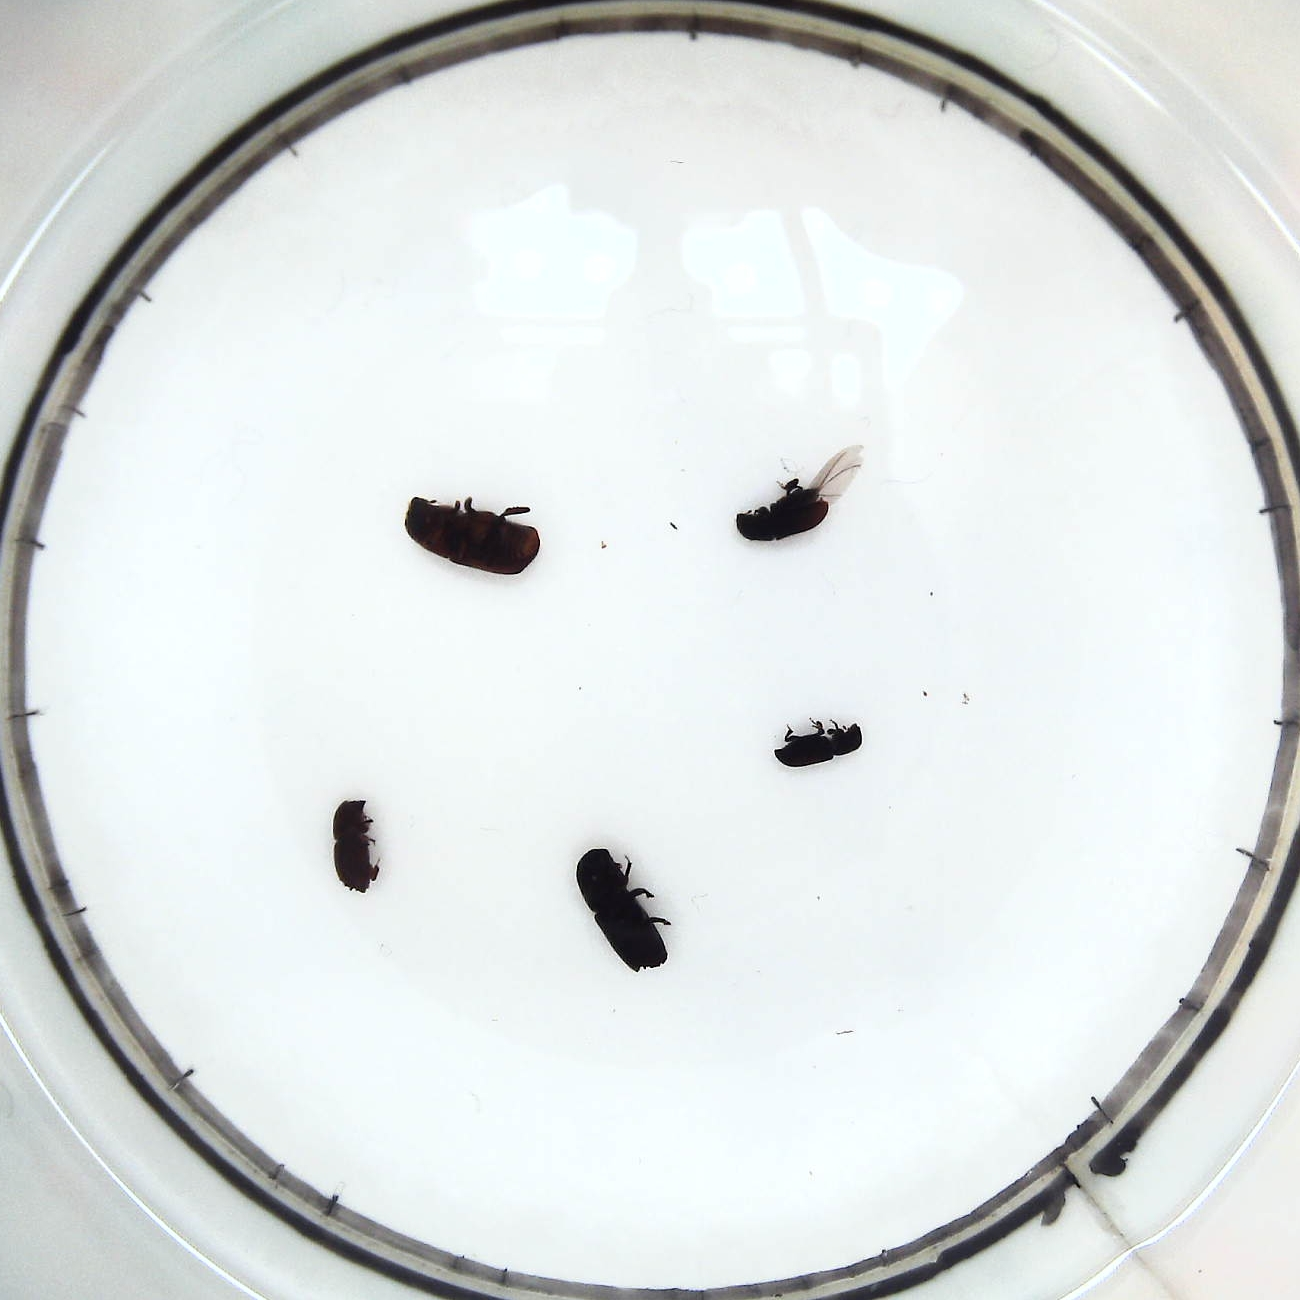Boerner: (573, 842, 681, 976)
Leconte: (400, 486, 546, 583)
armandi: (732, 442, 871, 549)
coleoptera: (773, 715, 871, 769)
linnaeus: (329, 793, 383, 898)
